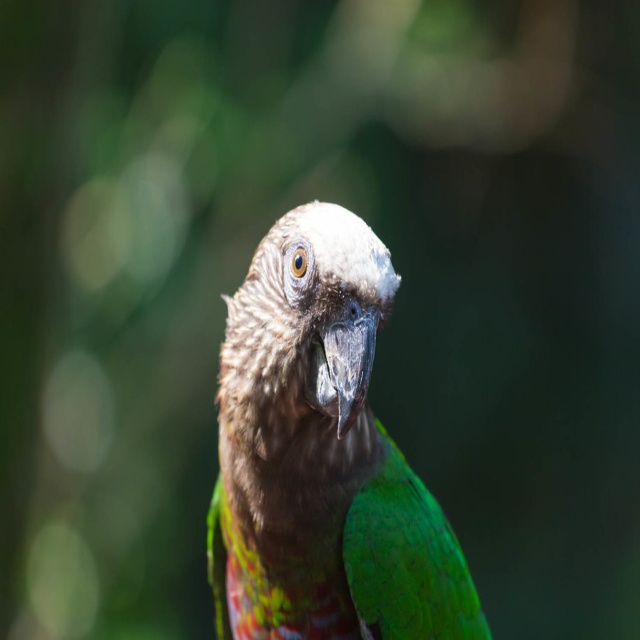Parrot: (181, 193, 492, 638)
